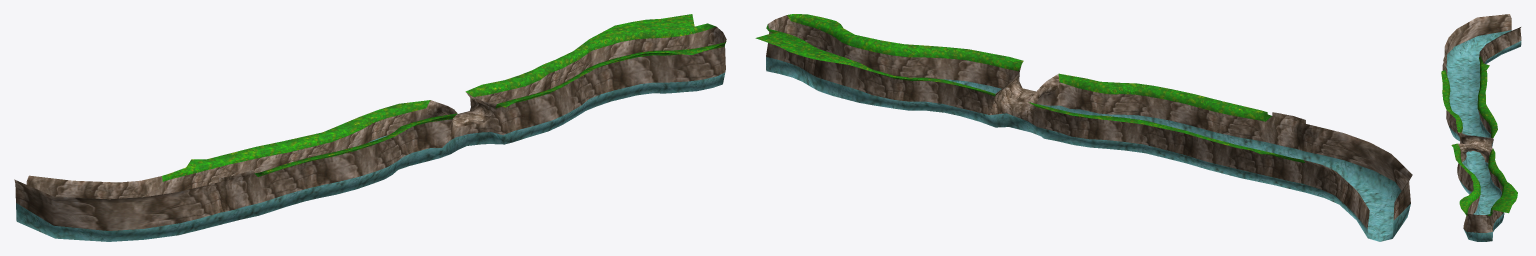
Rendered from EKH_ENTRANCE_PS_EN_RIVER_BOTTOM4746__GX.fbx.
3 renders of one model, left to right at view 1: azimuth 30°, elevation 25°; view 2: azimuth 150°, elevation 25°; view 3: azimuth 270°, elevation 25°, orthographic. The views are drawn at different scales.
Parts seen in each view (by area): view 1: EKH_ENTRANCE_PS_EN_RIVER_BOTTOM4746__GX; view 2: EKH_ENTRANCE_PS_EN_RIVER_BOTTOM4746__GX; view 3: EKH_ENTRANCE_PS_EN_RIVER_BOTTOM4746__GX.
Boxes of the visible parts, <box> form: EKH_ENTRANCE_PS_EN_RIVER_BOTTOM4746__GX: <box>14,14,726,241</box>; EKH_ENTRANCE_PS_EN_RIVER_BOTTOM4746__GX: <box>755,14,1412,241</box>; EKH_ENTRANCE_PS_EN_RIVER_BOTTOM4746__GX: <box>1441,14,1521,241</box>.
Size of the model in its own units: 777005 by 55262 by 130772.
Materials: 3 (3 with a texture image).
